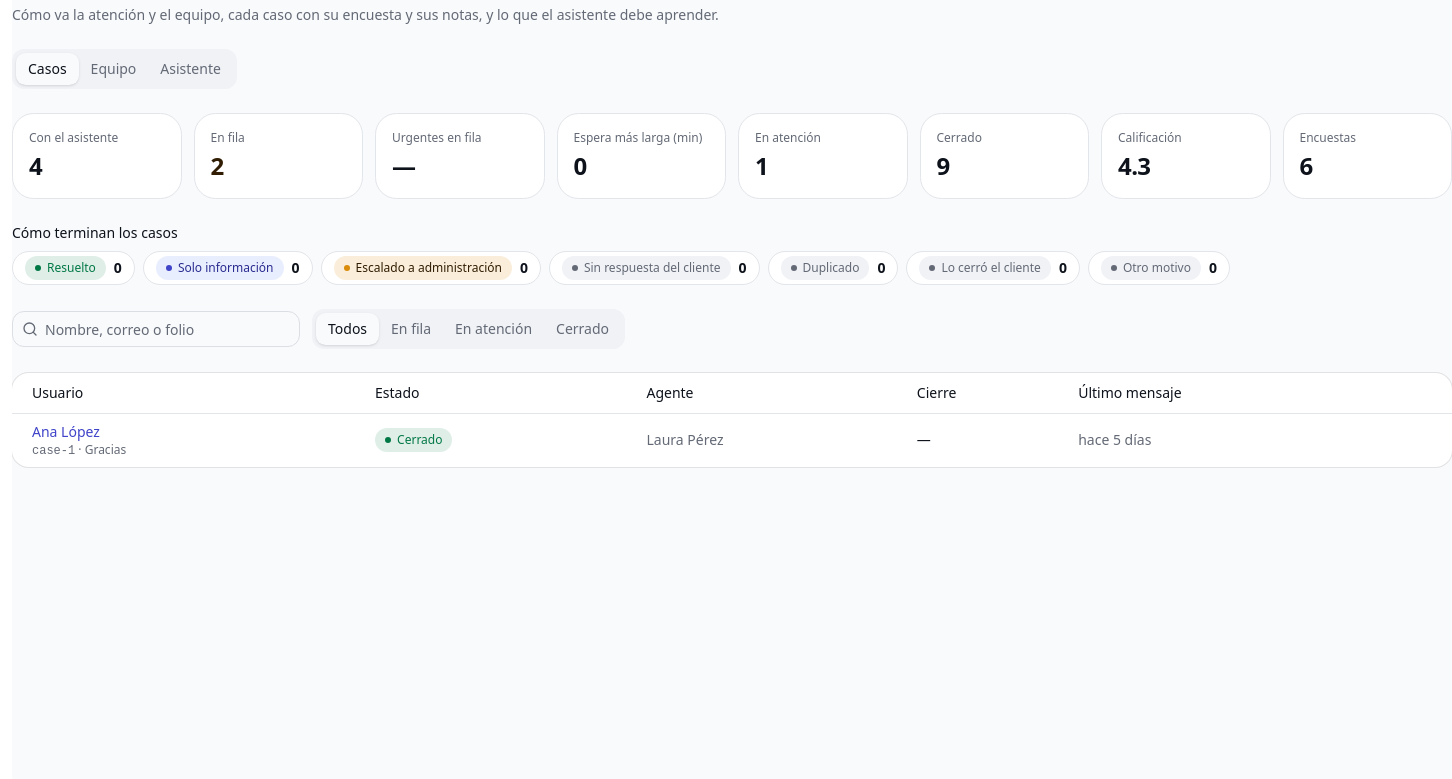
it: AdminSupportPage › assistant report › opens from the view switch and keeps it in the address
The image size is (1452, 779).
Click the button "Asistente" at (191, 69), box [148,53,233,85]
(page scrolled)
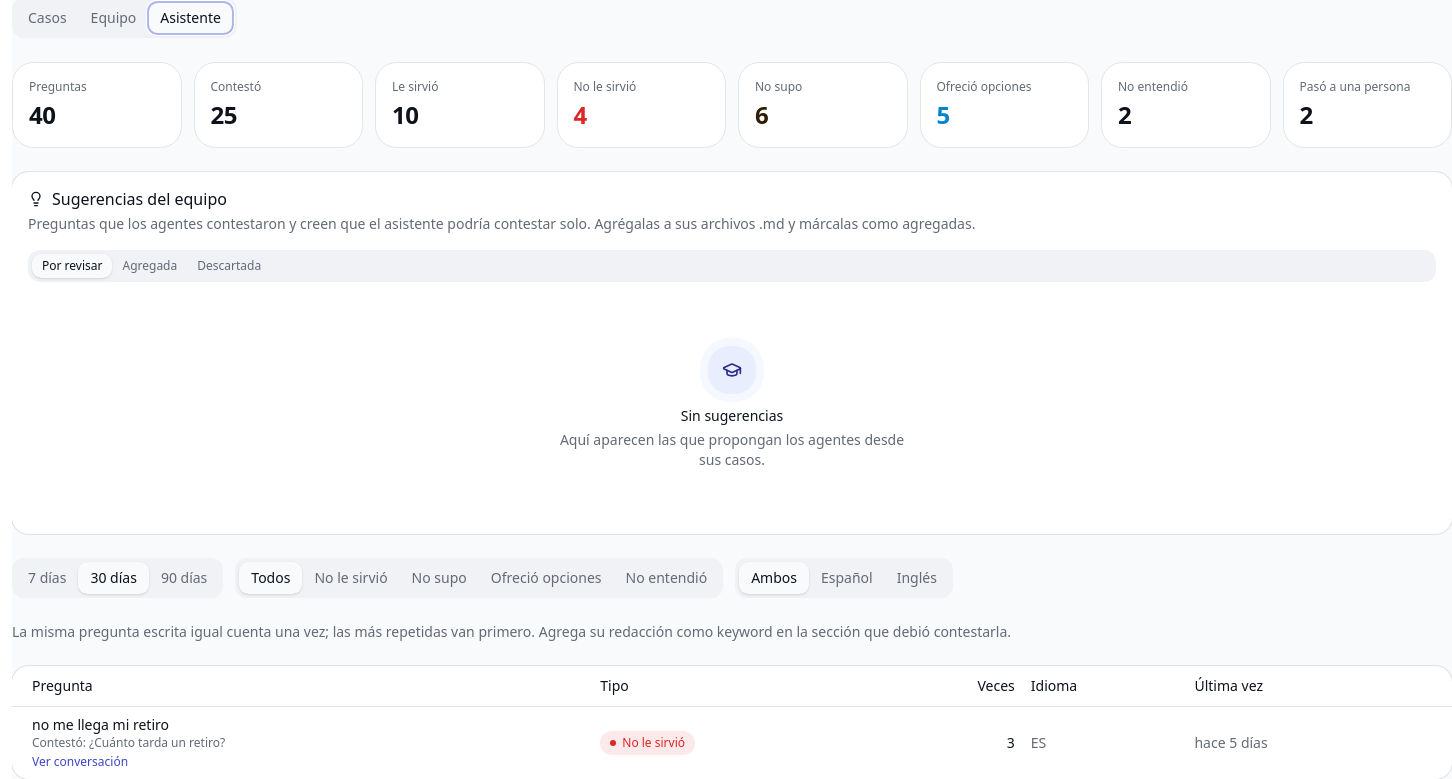
Check: the text "no me llega mi retiro" is shown, box [32,714,169,734]
